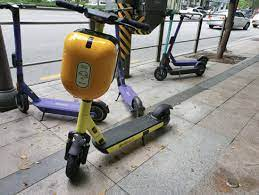kick_board: (57, 1, 170, 177)
kick_body: (36, 98, 80, 114), (171, 67, 196, 73), (176, 59, 197, 64)
kick_handler: (56, 1, 150, 32), (1, 1, 36, 20)
kick_neck: (76, 27, 97, 130), (14, 21, 28, 88), (116, 29, 125, 73), (166, 22, 172, 53)
kick_wheel: (66, 140, 83, 177), (155, 105, 172, 125), (92, 102, 108, 121), (15, 93, 30, 113), (131, 98, 143, 117), (155, 68, 167, 80), (195, 64, 206, 76)
